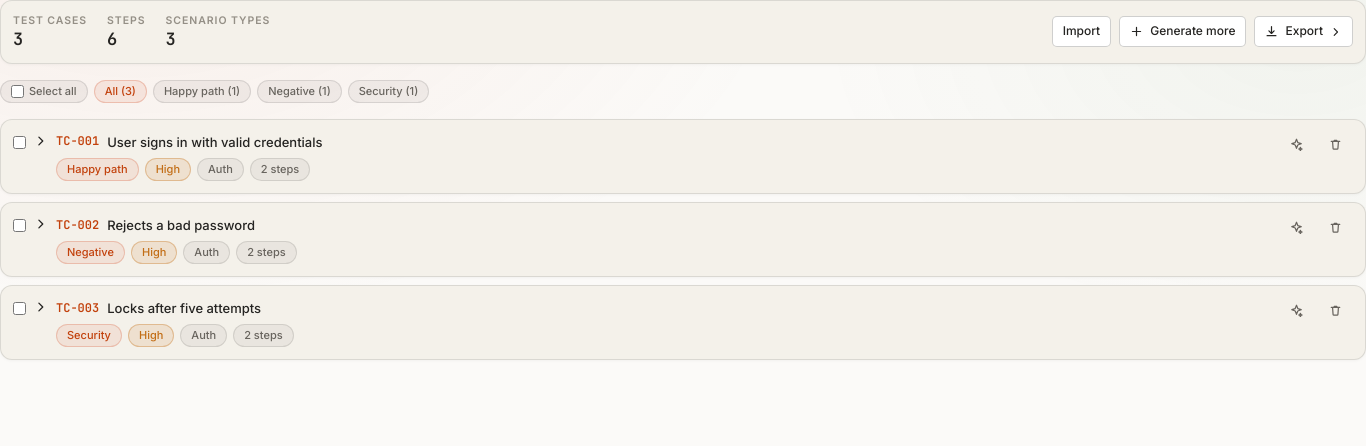
TestCasesDisplay selection › drops a case from the selection when it is deleted individually
What coordinates should you click on to do the following:
click the checkbox named "Select TC-001"
I would click on:
 (20, 142)
Its box is x1=13 y1=136 x2=26 y2=149.
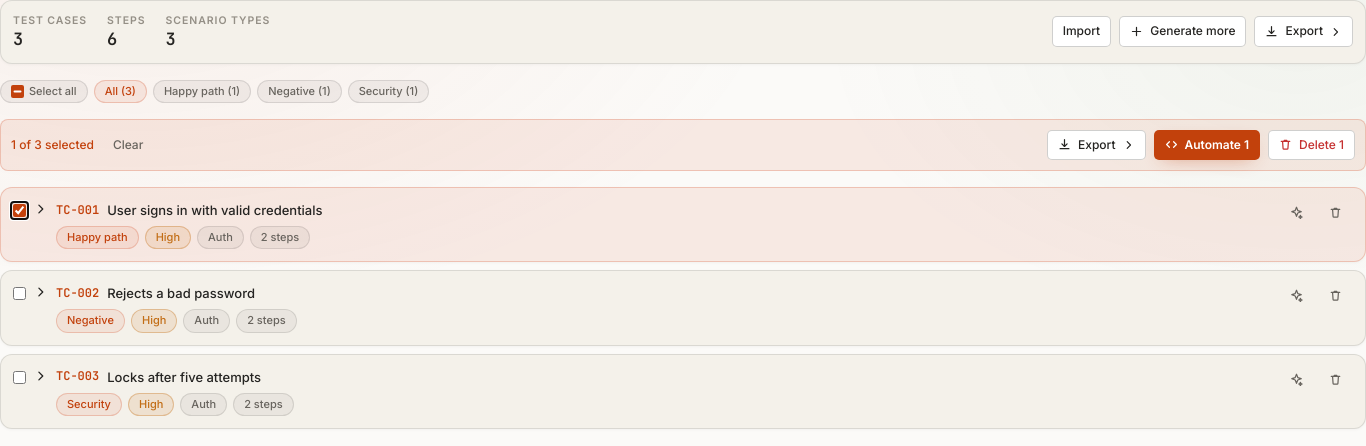
What coordinates should you click on to do the following:
click the checkbox named "Select TC-002"
I would click on:
 (20, 294)
Its box is x1=13 y1=287 x2=26 y2=300.
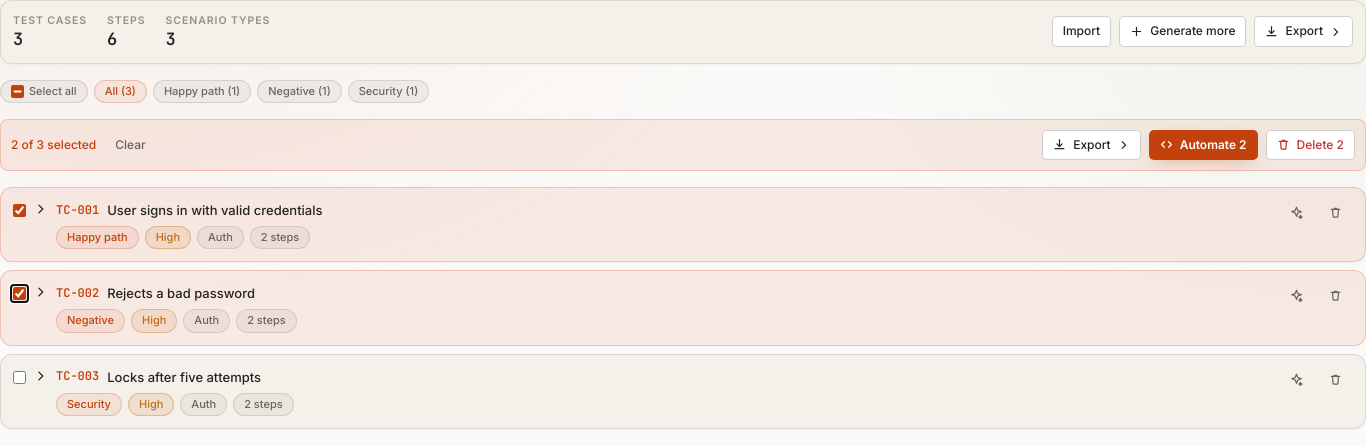
Expected: the button "Automate 2" is shown, x1=1149 y1=130 x2=1258 y2=160
What coordinates should you click on to do the following:
click the button named "Delete TC-001"
I would click on:
 (1336, 213)
Its box is x1=1318 y1=200 x2=1353 y2=225.
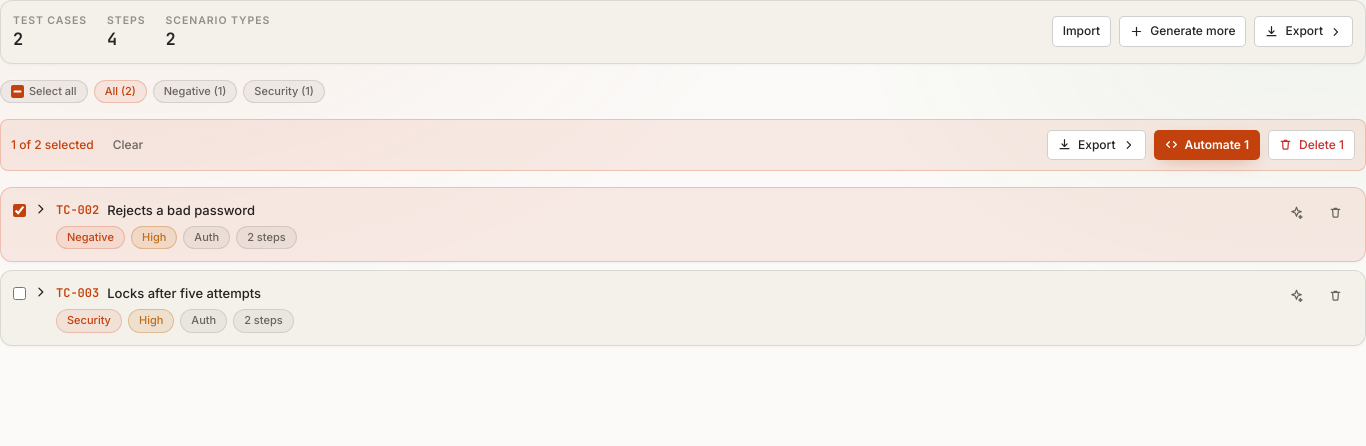
Expected: the button "Automate 1" is shown, x1=1154 y1=130 x2=1260 y2=160
